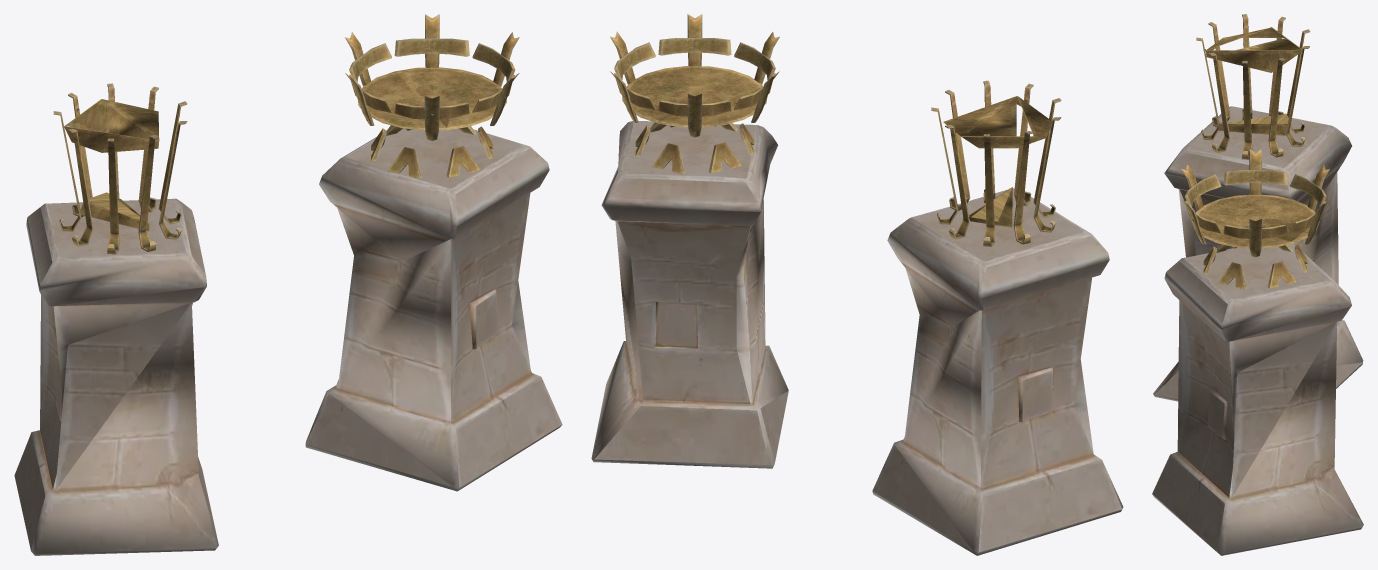
File: PRP_Brazier_lod.glb
The picture shows the model from 3 angles, left to right: view 1: azimuth 30°, elevation 25°; view 2: azimuth 150°, elevation 25°; view 3: azimuth 270°, elevation 25°; orthographic projection. The views are drawn at different scales.
Visible parts, largest first — view 1: Object_3, Object_2; view 2: Object_3, Object_2; view 3: Object_3, Object_2.
Boxes of the visible parts, x1,y1,x2,y2 form: Object_3: (14, 128, 562, 555); Object_2: (53, 14, 519, 254); Object_3: (591, 121, 1123, 555); Object_2: (610, 14, 1061, 246); Object_3: (1152, 106, 1363, 555); Object_2: (1181, 14, 1329, 289).
Bounding box in the file's own units: 482 × 351 × 196.
Materials: 2 (2 with a texture image).
